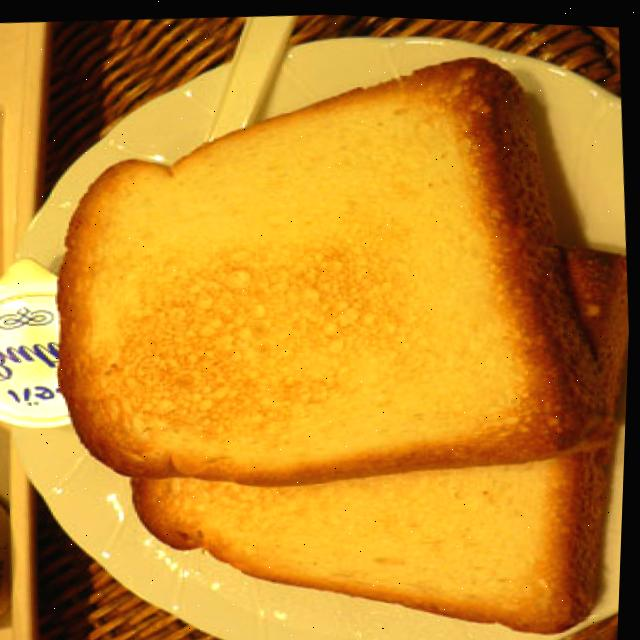面包点心: (43, 31, 639, 640)
